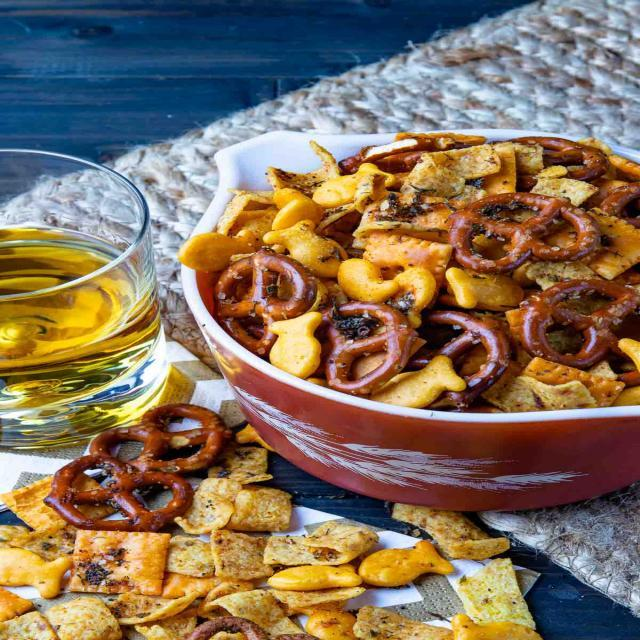Salatini: (182, 126, 640, 402), (10, 444, 506, 639)
